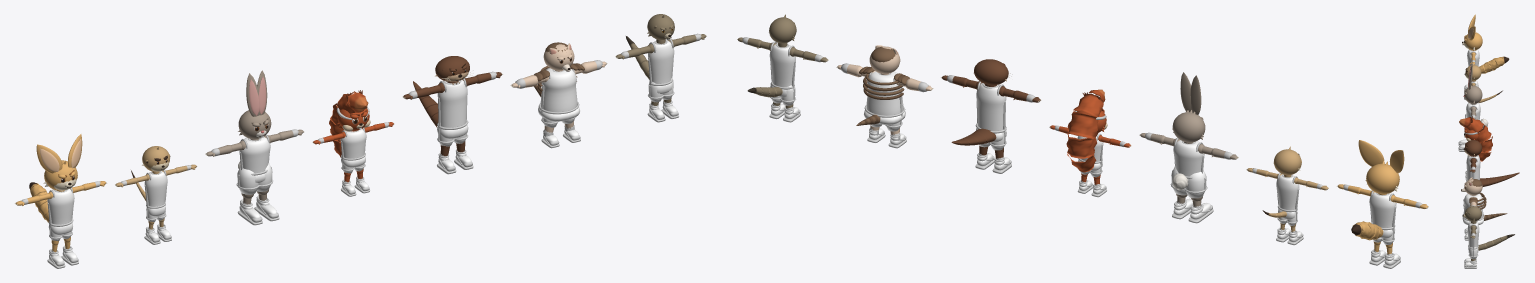
The model's file is small_species_all.glb.
The picture shows the model from 3 angles, left to right: view 1: azimuth 30°, elevation 25°; view 2: azimuth 150°, elevation 25°; view 3: azimuth 270°, elevation 25°; orthographic projection. The views are drawn at different scales.
Visible parts, largest first — view 1: rabbit_body, armadillo_body, otter_body, fennec_fox_body, mongoose_body, squirrel_body, meerkat_body; view 2: rabbit_body, armadillo_body, otter_body, fennec_fox_body, mongoose_body, meerkat_body, squirrel_body, squirrel_tail_seg03, squirrel_tail_seg02, squirrel_tail_seg04; view 3: mongoose_body, armadillo_body, rabbit_body, fennec_fox_body, otter_body, meerkat_body, squirrel_body, squirrel_tail_seg04, squirrel_tail_seg03, squirrel_tail_seg02, squirrel_tail_seg05, squirrel_tail_seg01 (+9 smaller).
Boxes of the visible parts, x1=… form: rabbit_body: x1=205, y1=70, x2=304, y2=225; armadillo_body: x1=510, y1=42, x2=607, y2=148; otter_body: x1=402, y1=56, x2=502, y2=174; fennec_fox_body: x1=15, y1=134, x2=106, y2=268; mongoose_body: x1=615, y1=14, x2=706, y2=122; squirrel_body: x1=312, y1=90, x2=394, y2=196; meerkat_body: x1=115, y1=146, x2=197, y2=244; rabbit_body: x1=1139, y1=72, x2=1238, y2=223; armadillo_body: x1=836, y1=45, x2=933, y2=148; otter_body: x1=941, y1=59, x2=1041, y2=173; fennec_fox_body: x1=1337, y1=140, x2=1428, y2=268; mongoose_body: x1=737, y1=14, x2=828, y2=122; meerkat_body: x1=1246, y1=146, x2=1328, y2=245; squirrel_body: x1=1049, y1=92, x2=1131, y2=197; squirrel_tail_seg03: x1=1067, y1=111, x2=1098, y2=139; squirrel_tail_seg02: x1=1066, y1=133, x2=1096, y2=158; squirrel_tail_seg04: x1=1073, y1=93, x2=1103, y2=120; mongoose_body: x1=1462, y1=205, x2=1481, y2=268; armadillo_body: x1=1461, y1=177, x2=1486, y2=240; rabbit_body: x1=1458, y1=62, x2=1482, y2=151; fennec_fox_body: x1=1462, y1=14, x2=1482, y2=89; otter_body: x1=1463, y1=140, x2=1482, y2=208; meerkat_body: x1=1464, y1=65, x2=1481, y2=118; squirrel_body: x1=1464, y1=116, x2=1479, y2=179; squirrel_tail_seg04: x1=1466, y1=118, x2=1483, y2=133; squirrel_tail_seg03: x1=1477, y1=125, x2=1491, y2=143; squirrel_tail_seg02: x1=1477, y1=136, x2=1492, y2=152; squirrel_tail_seg05: x1=1459, y1=117, x2=1470, y2=129; squirrel_tail_seg01: x1=1478, y1=150, x2=1491, y2=161.
Size of the model in its own units: 8.36 by 1.66 by 1.1.
